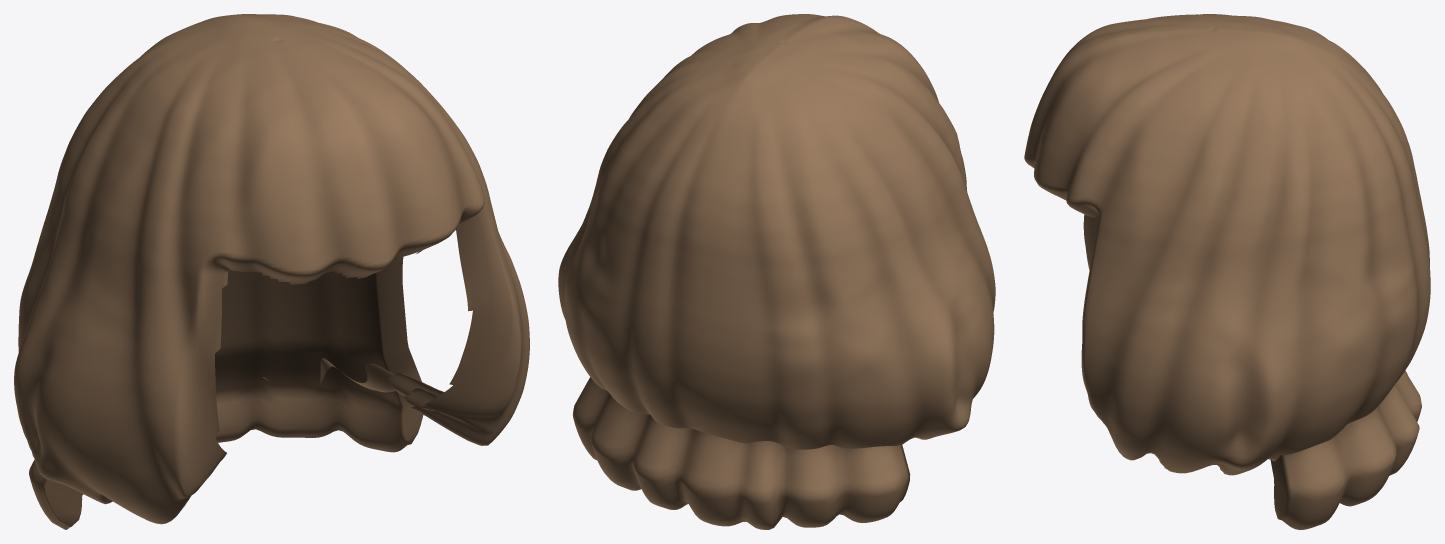
The model's file is long.gltf.
The picture shows the model from 3 angles, left to right: view 1: azimuth 30°, elevation 25°; view 2: azimuth 150°, elevation 25°; view 3: azimuth 270°, elevation 25°; orthographic projection. The views are drawn at different scales.
Visible parts, largest first — view 1: Hair_long; view 2: Hair_long; view 3: Hair_long.
Part boxes in pixels (box(x1,y1,x2,y2)): Hair_long: box(14, 14, 529, 529); Hair_long: box(558, 14, 995, 529); Hair_long: box(1024, 14, 1430, 529).
Size of the model in its own units: 0.5674 by 0.5655 by 0.4828.
